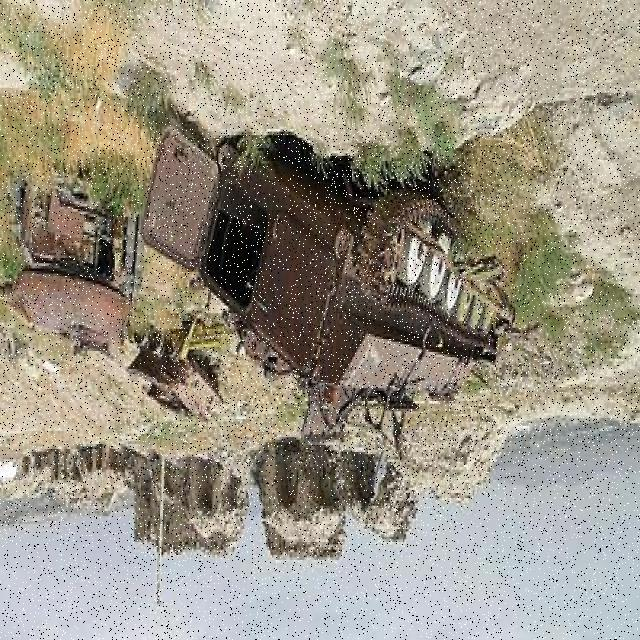MIL_MBT: (157, 133, 507, 451)
